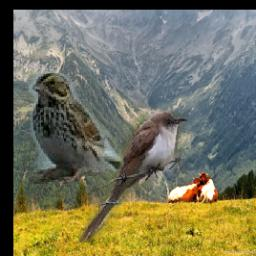Cuckoo: (78, 112, 187, 243)
Sparrow: (28, 70, 134, 185)
